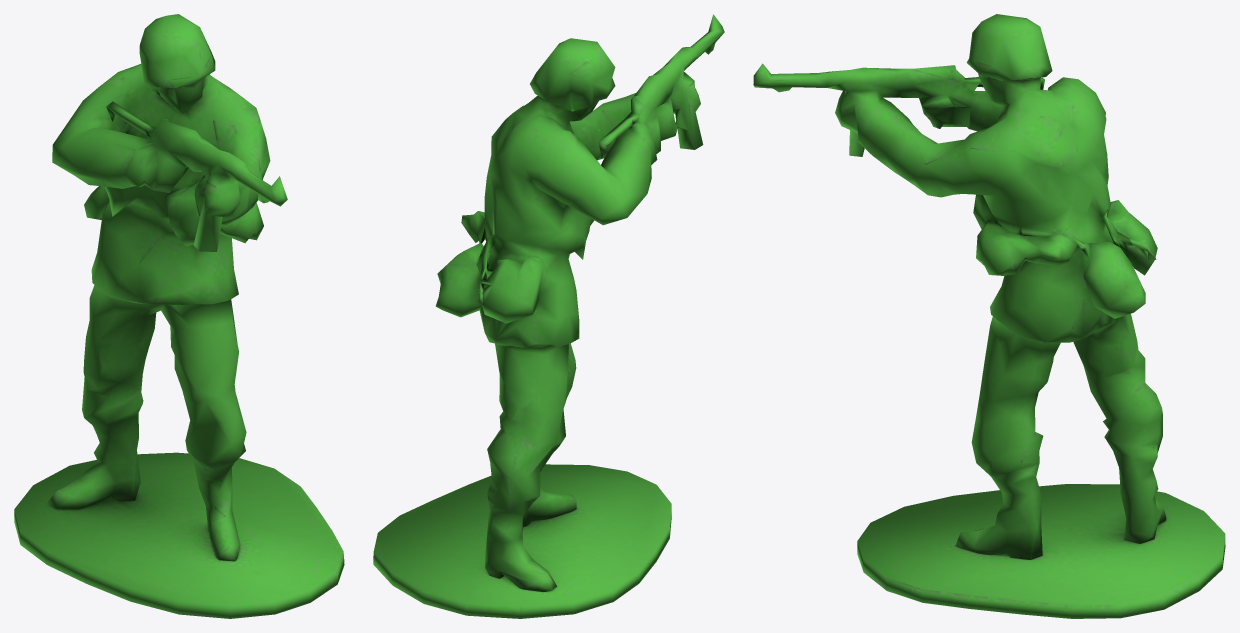
The model's file is soldier.glb.
3 views of the same model, side by side, from view 1: azimuth 30°, elevation 25°; view 2: azimuth 150°, elevation 25°; view 3: azimuth 270°, elevation 25° (orthographic). The views are drawn at different scales.
Visible parts, largest first — view 1: soldier; view 2: soldier; view 3: soldier.
Boxes of the visible parts, x1,y1,x2,y2 form: soldier: (14, 14, 344, 618); soldier: (373, 14, 724, 618); soldier: (753, 14, 1225, 618).
Bounding box in the file's own units: 1.01 × 2.03 × 1.66.
1 material, 1 textured.
